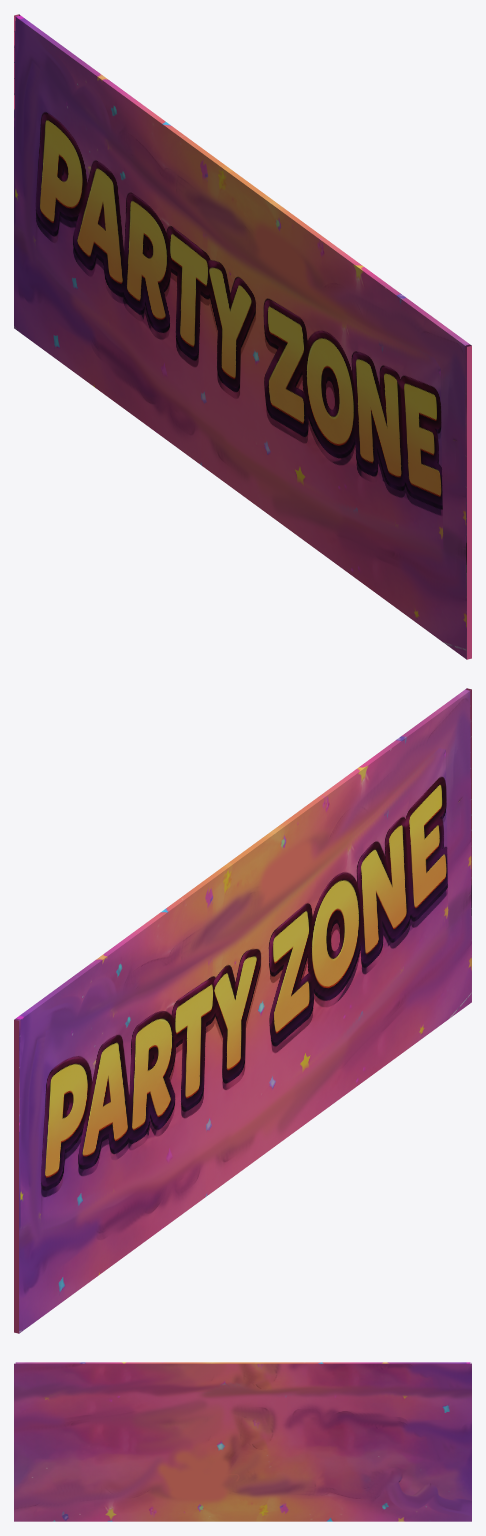
File: flag.fbx
The picture shows the model from 3 angles, top to bottom: view 1: azimuth 30°, elevation 25°; view 2: azimuth 150°, elevation 25°; view 3: azimuth 270°, elevation 25°; orthographic projection. The views are drawn at different scales.
Parts seen in each view (by area): view 1: pPlane1; view 2: pPlane1; view 3: pPlane1.
Part boxes in pixels (box(x1,y1,x2,y2)): pPlane1: box(14, 14, 471, 659); pPlane1: box(14, 688, 471, 1333); pPlane1: box(14, 1362, 471, 1521).
Bounding box in the file's own units: 0.013 × 0.7545 × 1.98.
1 material, 1 textured.
